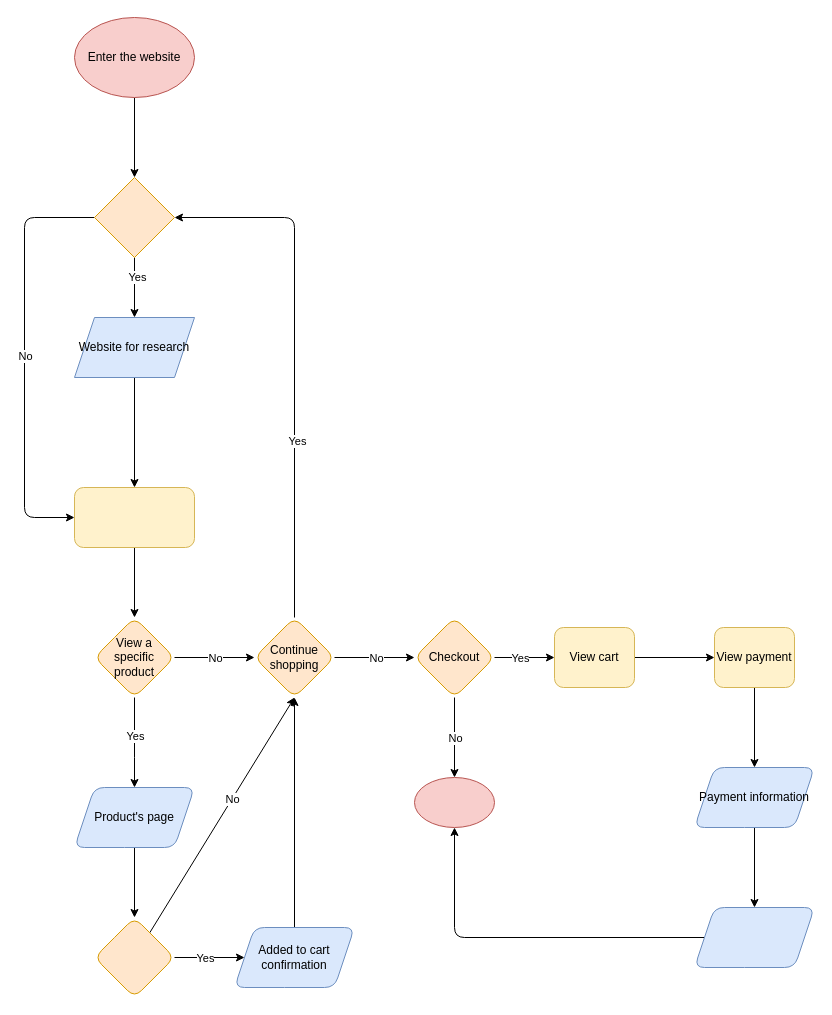
The diagram is 832 pixels wide and 1015 high, and some of its shapes have lost their labels. The centre of each missing label's shape, as x and y in pixels:
"Add to cart" belongs at [134,957].
"Leave the website" belongs at [454,802].
"Look over products" belongs at [134,517].
"Order confirmation and email" belongs at [754,937].
"Search a product" belongs at [134,217].
